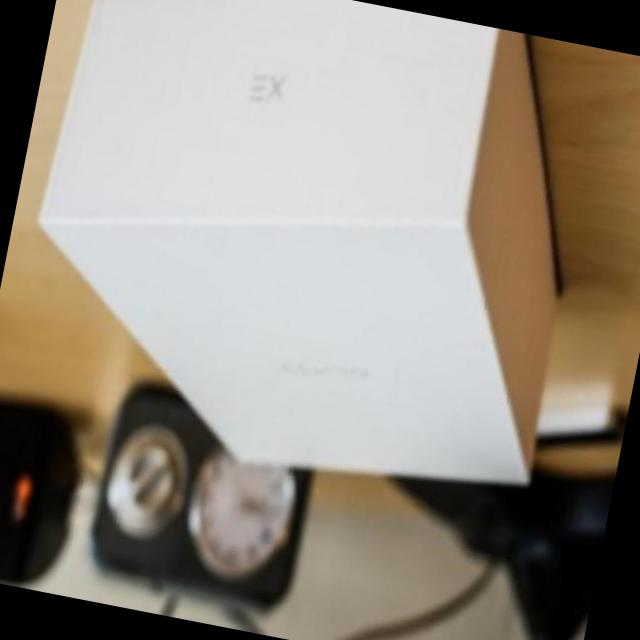box: (0, 0, 609, 535)
